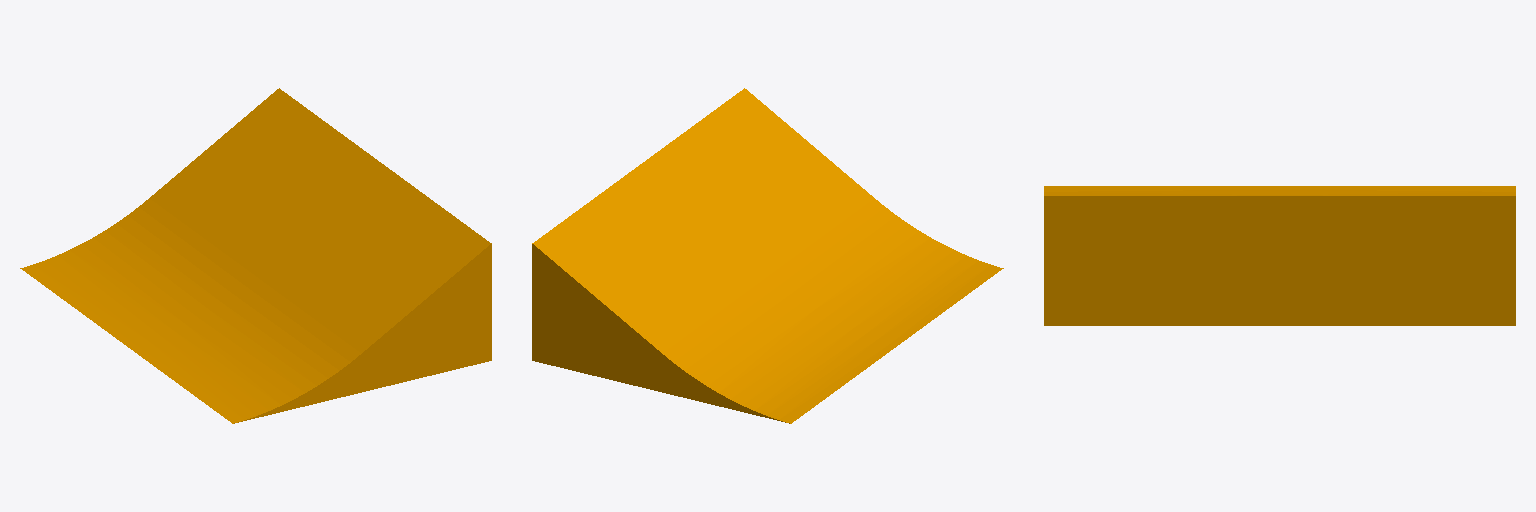
robot.urdf — jump30deg:
<?xml version="1.0"?>

<robot name="jump30deg">
  <gazebo>
    <static>true</static>
  </gazebo>
  <link name="jump30deg_link">
    <origin pose="0 0 0 0 0 0"/>
    <collision name="jump30deg_collision">
      <geometry>
        <mesh filename="package://autorally_description/urdf/cad/jump30deg.stl" scale="0.01 0.01 0.01" />
      </geometry>
    </collision>

    <visual name="jump30deg_visual" cast_shadows="false">
      <geometry>
        <mesh filename="package://autorally_description/urdf/cad/jump30deg.stl" scale="0.01 0.01 0.01" />
      </geometry>
    </visual>
    <inertial>
      <origin xyz="0 0 0" />
      <mass value="1000000000.0" />
      <inertia  ixx="1.0" ixy="0.0"  ixz="0.0"  iyy="100.0"  iyz="0.0"  izz="1.0" />
    </inertial>
  </link>
  <gazebo reference="jump30deg_link">
    <material>Gazebo/Grey</material>
    <mu1>1.0</mu1>
    <mu2>1.0</mu2>
  </gazebo>

</robot>

--- What the picture shows (computed from the rendered views, not written in the file) ---
Views: 3 orthographic renders of the robot side by side, from view 1: azimuth 30°, elevation 25°; view 2: azimuth 150°, elevation 25°; view 3: azimuth 270°, elevation 25°.
Robot: jump30deg — 1 links, 0 joints (none); root link jump30deg_link; default pose: every joint at zero.
Visible links, largest first — view 1: jump30deg_link; view 2: jump30deg_link; view 3: jump30deg_link.
Boxes of the visible links, x1,y1,x2,y2 form: jump30deg_link: [20, 88, 491, 423]; jump30deg_link: [532, 88, 1003, 423]; jump30deg_link: [1044, 186, 1515, 325].
Size in the robot's own frame: 1.41 by 2 by 0.6096 metres.
1 mesh visuals loaded from 1 distinct referenced files (1 binary STL).